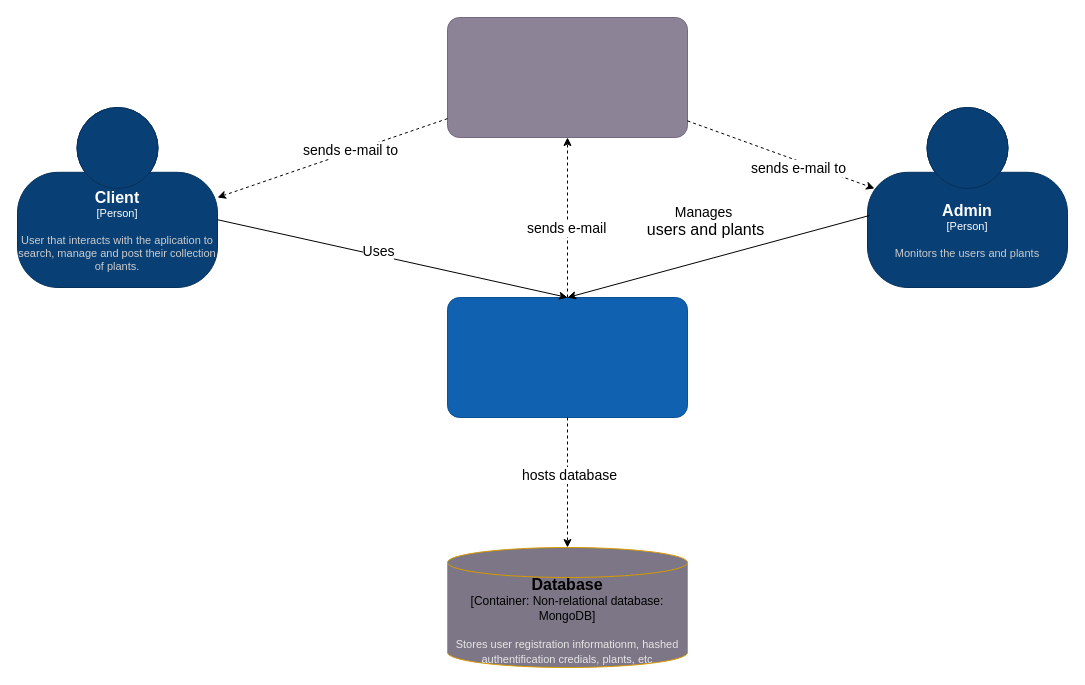
Image size: 1085x685. Some labels were removed from this diagram. Here are the shapes that lost their labels. From the top down, the centre of each, then its label:
At [567,77]: "E-mail system [Software System] The internal Microsoft Exchange e-mail system".
At [567,357]: "HeMa [Herbal Web Manager] Plant collection organiser".
